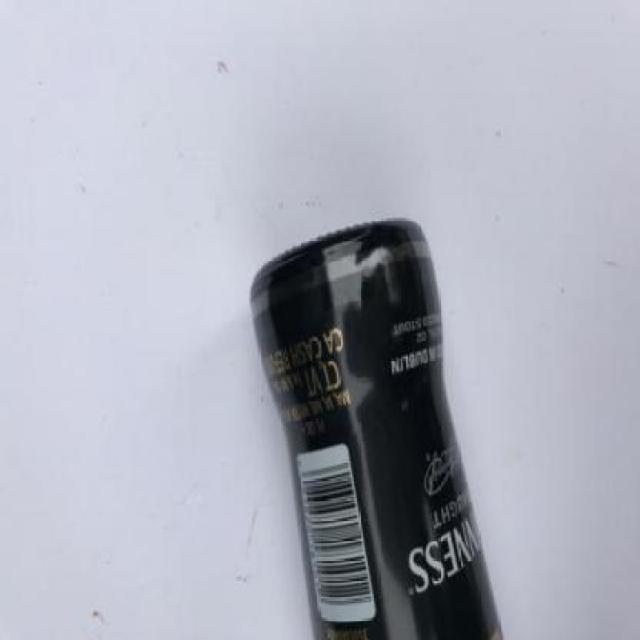kaca: (251, 217, 506, 638)
